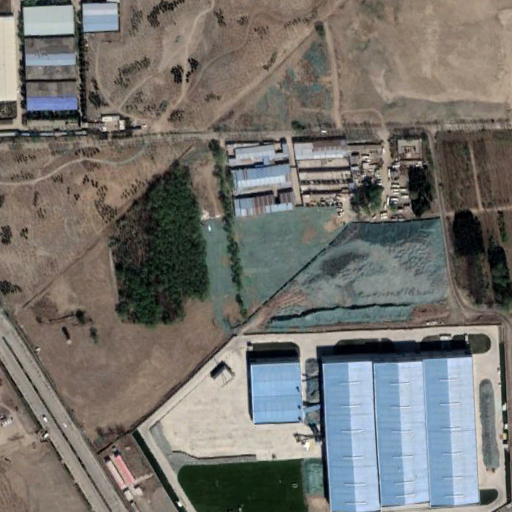cw: (198, 206, 450, 328)
